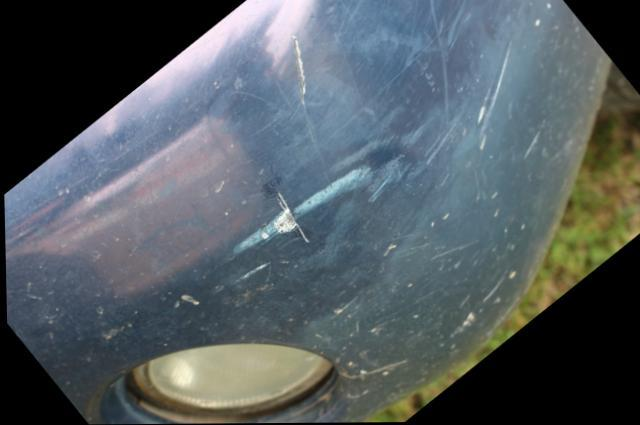scratch: (215, 146, 408, 275)
